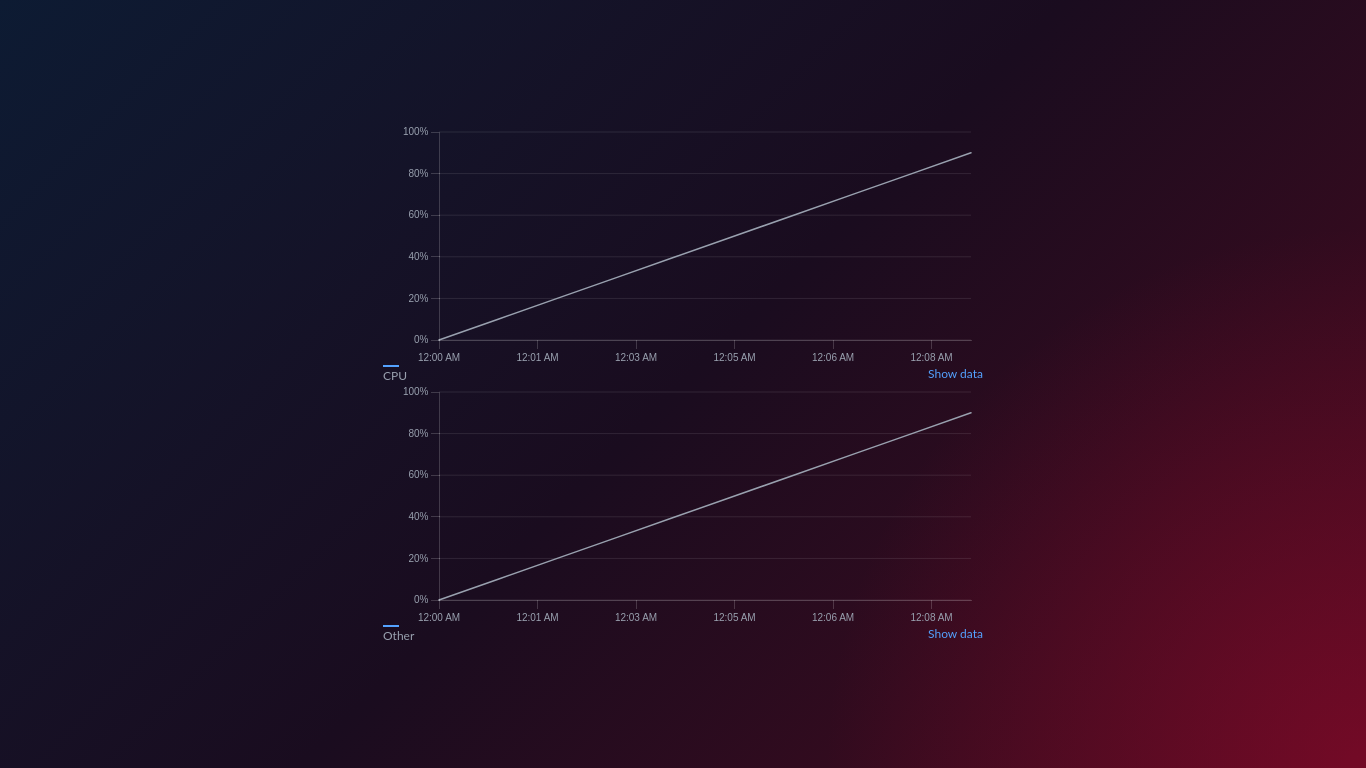
it: synced crosshair and range › zoom range is shared and reset clears it everywhere
This screenshot has width=1366, height=768.
Press the mouse on the 1st picture "A" at [683, 244], box [383, 124, 983, 364]
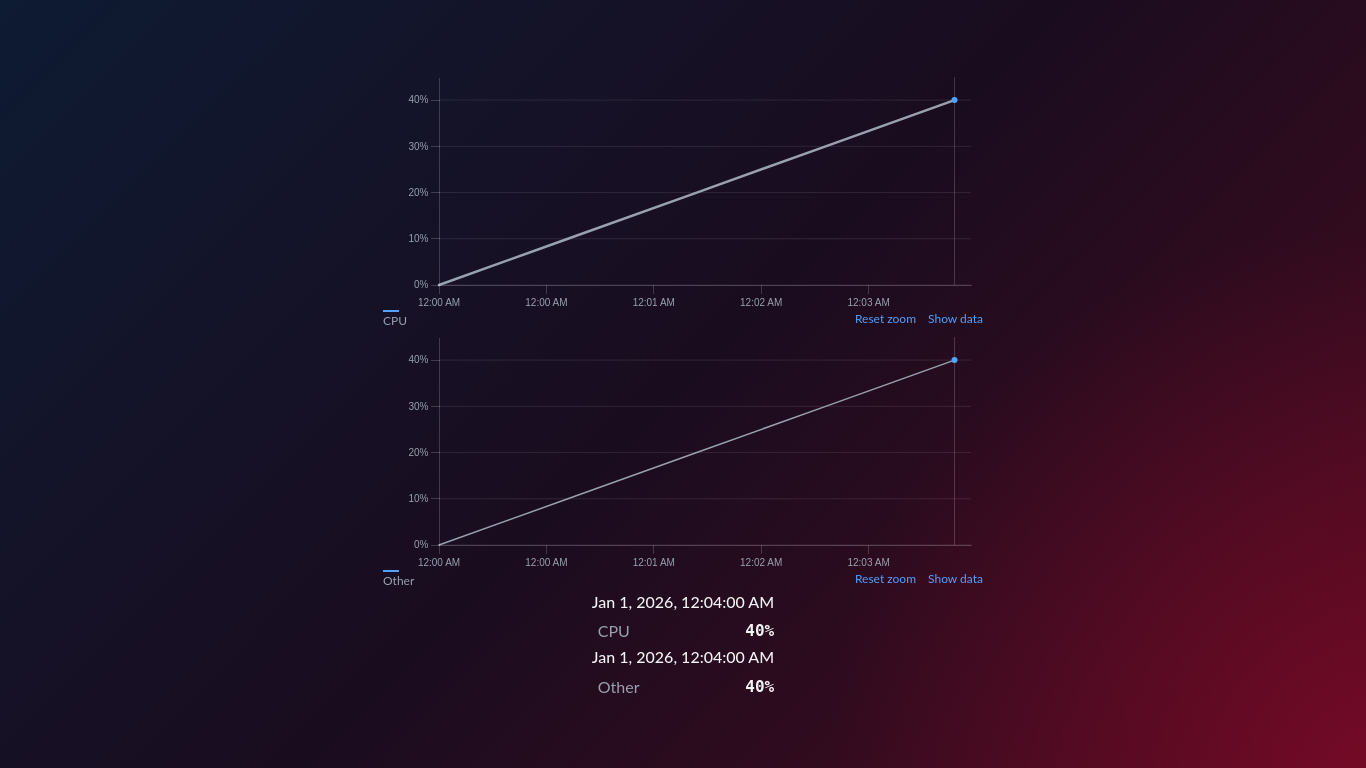
Result: the number of buttons "Reset zoom" is 2 at [855, 311, 916, 327]; [855, 571, 916, 587]
Double-click the 1st picture "A" at [683, 189], box [383, 69, 983, 309]
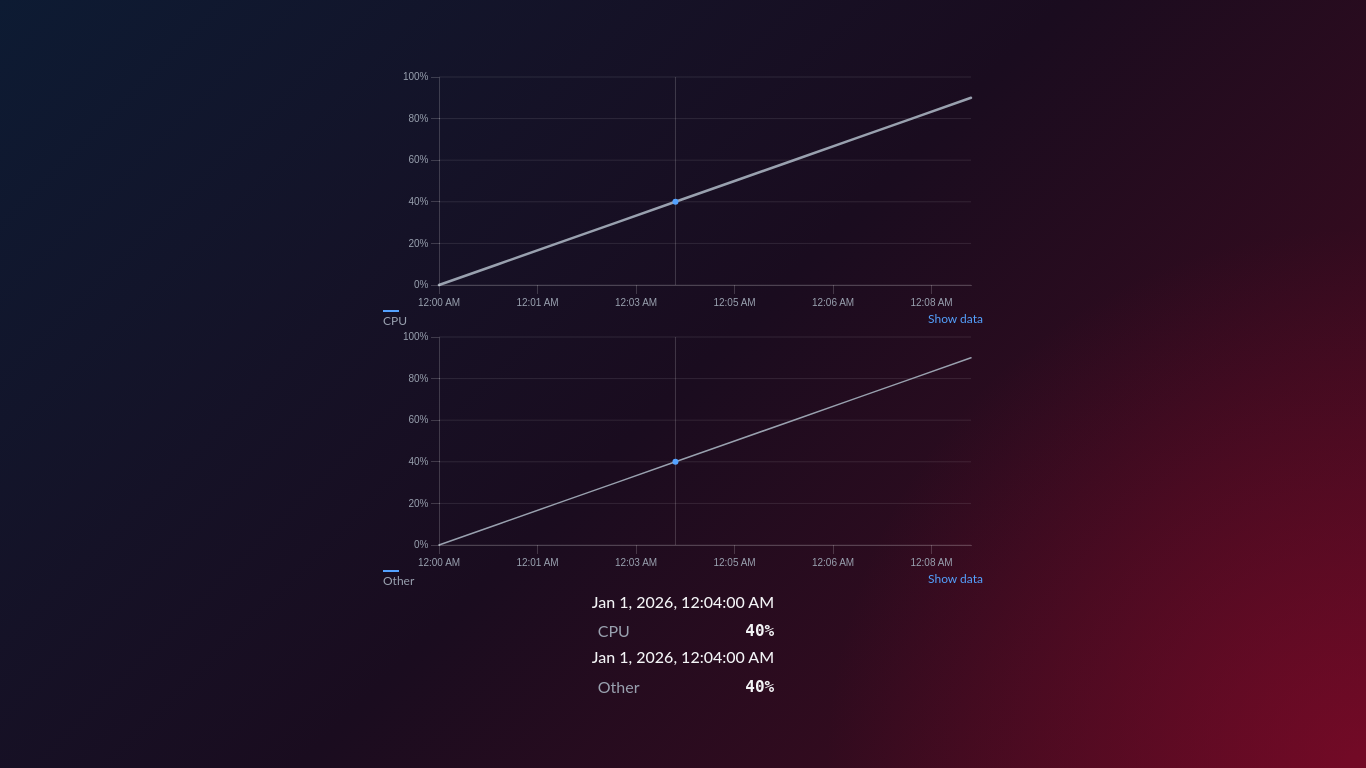
Expected: the number of pictures is 2, [383, 69, 983, 309]; [383, 329, 983, 569]
Result: the button "Reset zoom" is gone
